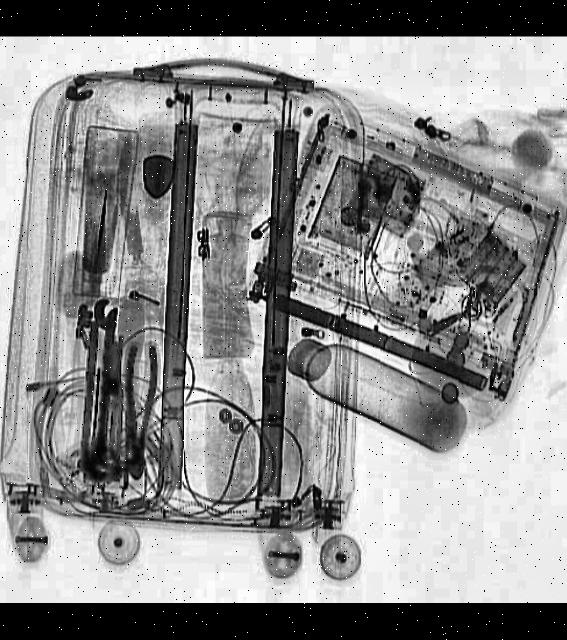Pliers: (119, 342, 156, 479)
Wrench: (84, 298, 118, 479)
